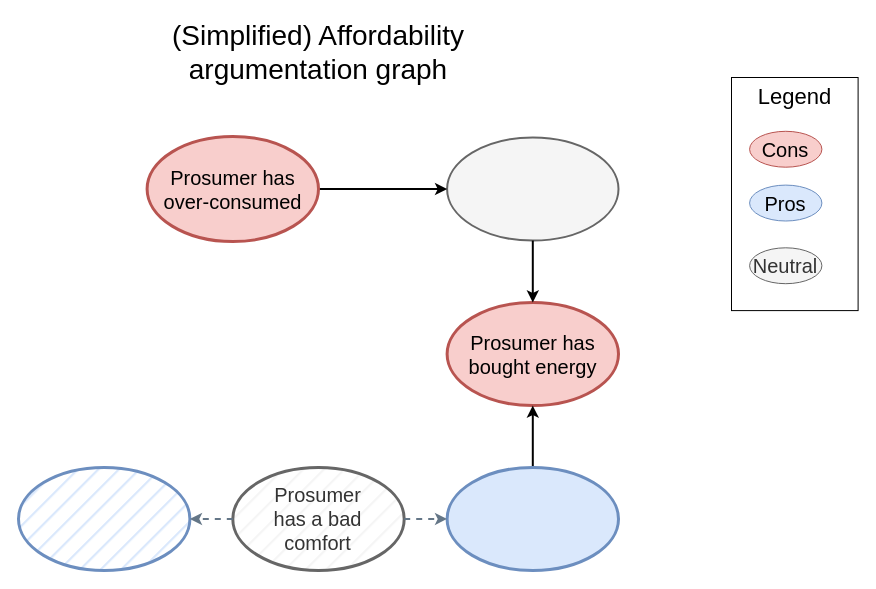
This 876x589 diagram has some shape labels left out. Here are the shapes that lost their labels. From the top down, the centre of each, then its label:
At point 532,188: "Prosumer has a good comfort".
At point 103,518: "Prosumer has not bought energy".
At point 532,518: "Prosumer has a positive payoff".
